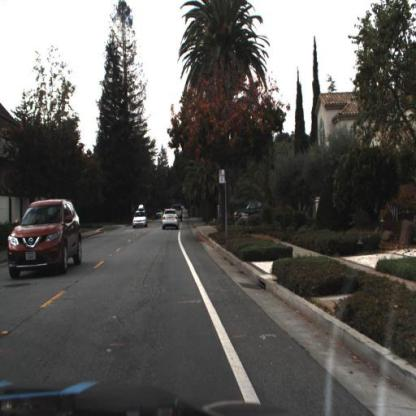car: (9, 199, 83, 285), (231, 195, 267, 222), (131, 203, 150, 233), (161, 206, 181, 232)
